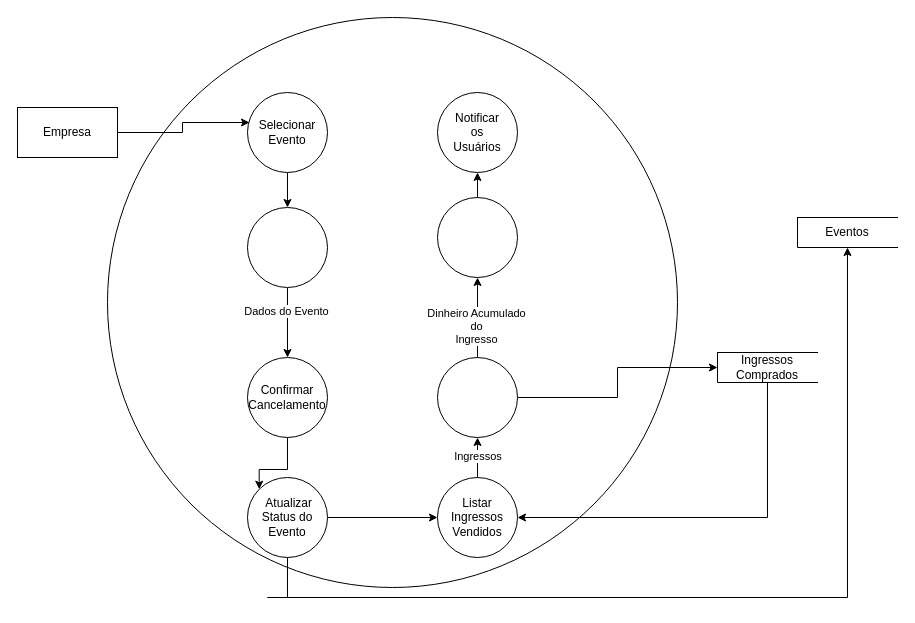
Image size: 915x623. Some labels were removed from this diagram. The centre of each missing label's shape, as x and y in pixels:
"Cancelar Ingressos" goes at pixel 477 397.
"Exibir Dados do Evento" goes at pixel 287 247.
"Processar Reembolso" goes at pixel 477 237.
